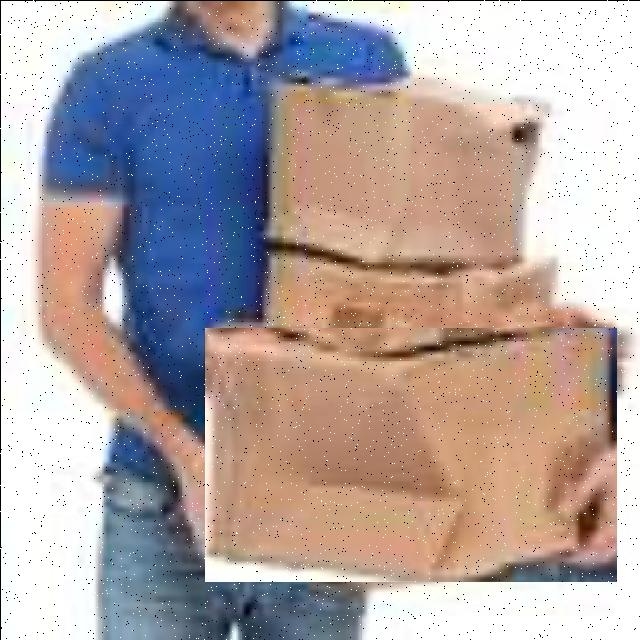defect: (204, 328, 616, 582), (258, 77, 550, 269)
